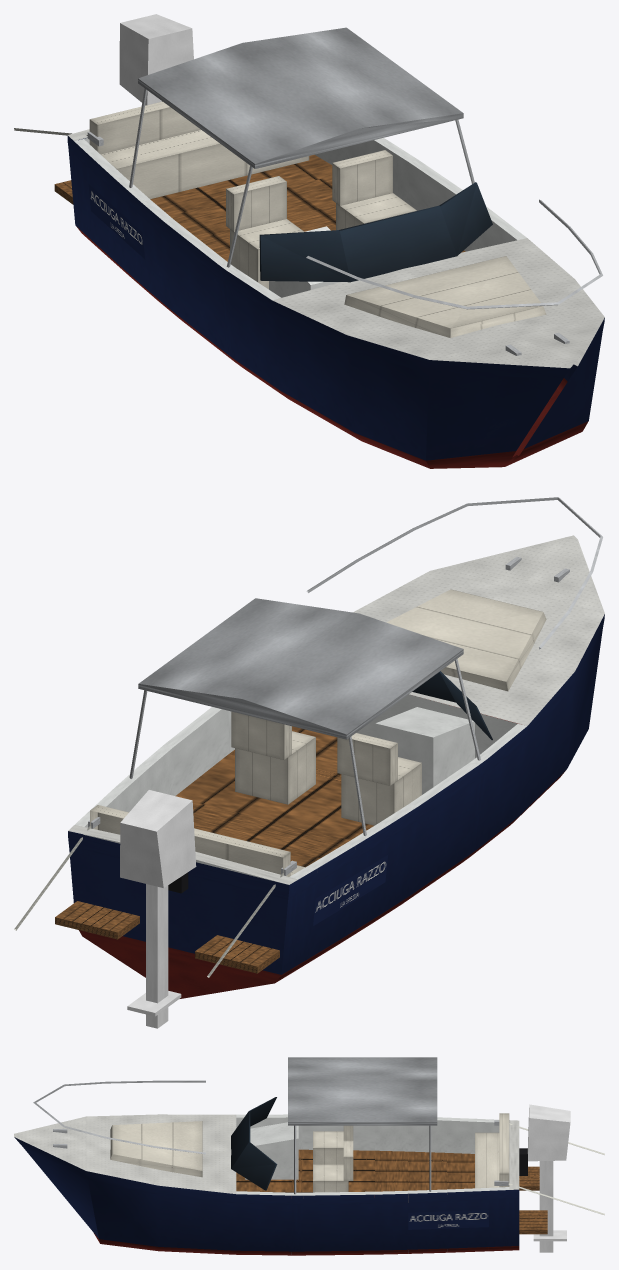
The model's file is SM_Morin_Barca_Motoscafo_Blu_LOD1.fbx.
3 views of the same model, one above another, from view 1: azimuth 30°, elevation 25°; view 2: azimuth 150°, elevation 25°; view 3: azimuth 270°, elevation 25° (orthographic). The views are drawn at different scales.
Parts seen in each view (by area): view 1: SM_Morin_Barca_Motoscafo_Blu_LOD1; view 2: SM_Morin_Barca_Motoscafo_Blu_LOD1; view 3: SM_Morin_Barca_Motoscafo_Blu_LOD1.
Boxes of the visible parts, x1=… form: SM_Morin_Barca_Motoscafo_Blu_LOD1: x1=14, y1=14, x2=604, y2=468; SM_Morin_Barca_Motoscafo_Blu_LOD1: x1=14, y1=497, x2=604, y2=1028; SM_Morin_Barca_Motoscafo_Blu_LOD1: x1=14, y1=1057, x2=604, y2=1255.
Size of the model in its own units: 270 by 830 by 259.
1 material, 1 textured.
